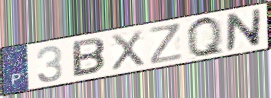3: (36, 44, 65, 83)
B: (72, 36, 107, 79)
N: (225, 7, 263, 53)
Q: (184, 15, 226, 59)
X: (110, 28, 147, 73)
Z: (147, 21, 185, 66)
